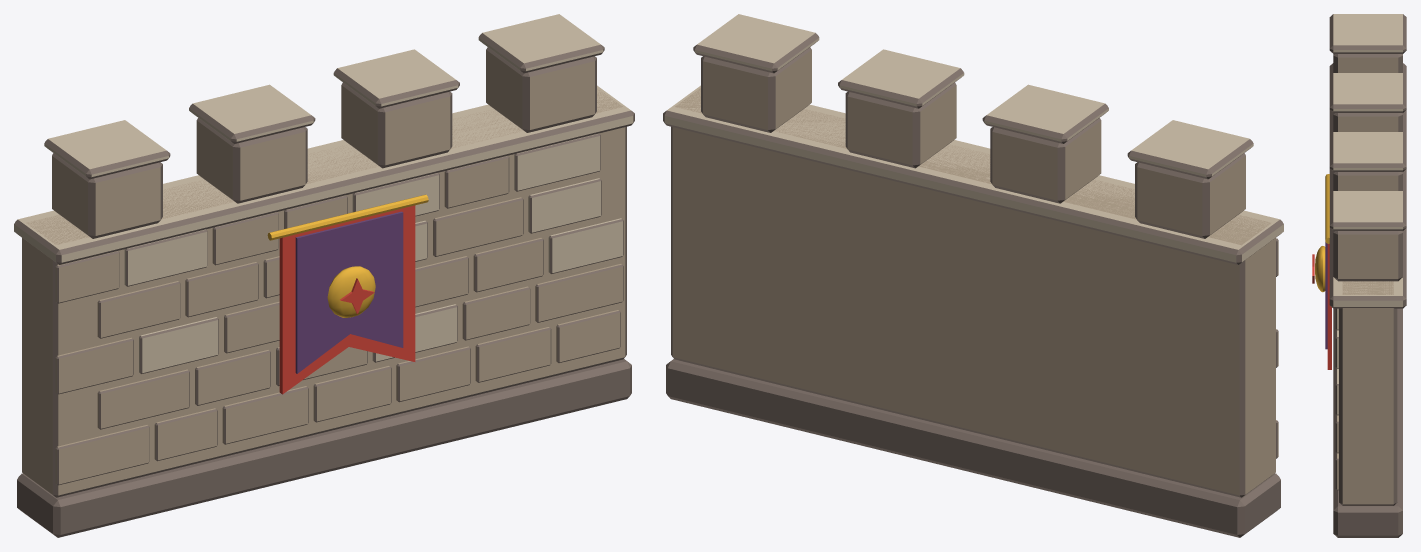
The model's file is cannon_wall.glb.
The picture shows the model from 3 angles, left to right: view 1: azimuth 30°, elevation 25°; view 2: azimuth 150°, elevation 25°; view 3: azimuth 270°, elevation 25°; orthographic projection. The views are drawn at different scales.
Visible parts, largest first — view 1: cannon_wall; view 2: cannon_wall; view 3: cannon_wall.
Part boxes in pixels (box(x1,y1,x2,y2)): cannon_wall: box(14, 14, 634, 537); cannon_wall: box(663, 14, 1283, 537); cannon_wall: box(1312, 14, 1406, 537).
Size of the model in its own units: 4.8 by 2.88 by 0.81.
